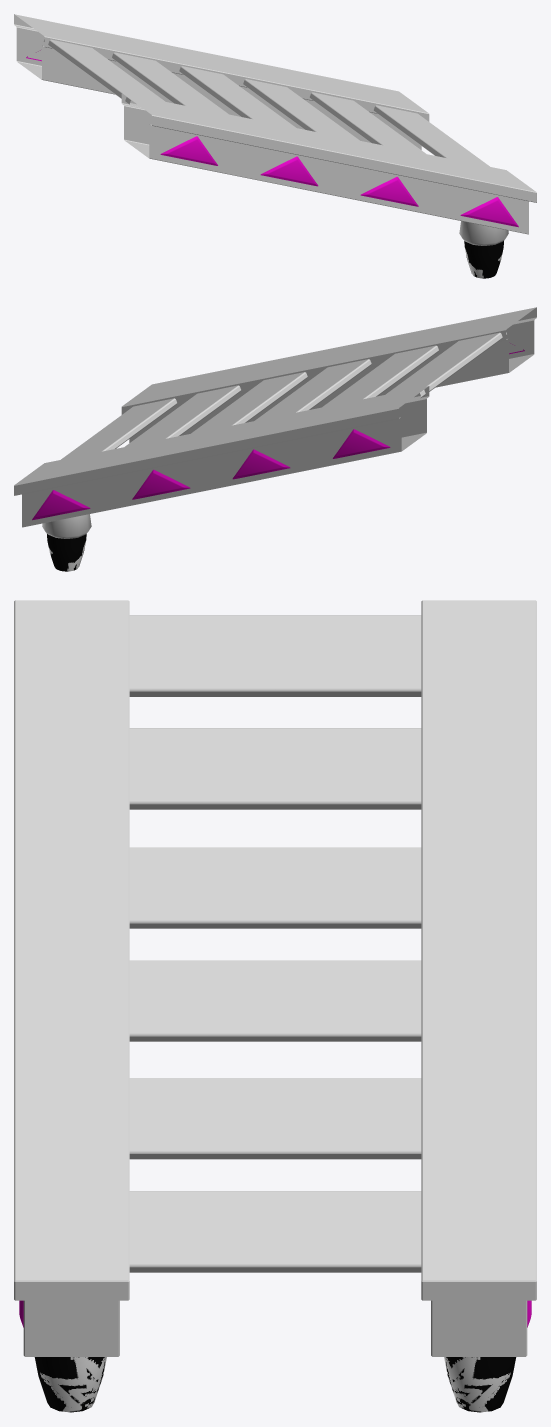
File: SM_Platform_02.fbx
The picture shows the model from 3 angles, top to bottom: view 1: azimuth 30°, elevation 25°; view 2: azimuth 150°, elevation 25°; view 3: azimuth 270°, elevation 25°; orthographic projection. The views are drawn at different scales.
Visible parts, largest first — view 1: SM_Platform_02; view 2: SM_Platform_02; view 3: SM_Platform_02.
Boxes of the visible parts, x1,y1,x2,y2 form: SM_Platform_02: (14,14,536,278); SM_Platform_02: (14,307,536,571); SM_Platform_02: (14,600,536,1412).
Bounding box in the file's own units: 1415 × 892 × 878.
